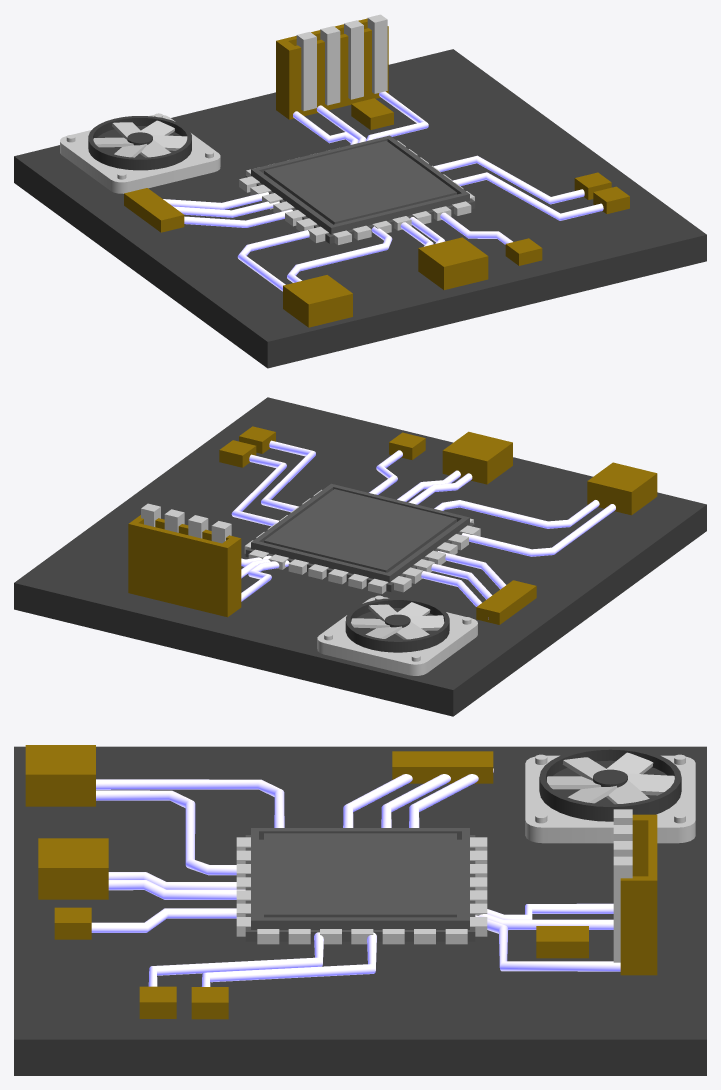
File: moederbord II.fbx
3 views of the same model, one above another, from view 1: azimuth 30°, elevation 25°; view 2: azimuth 150°, elevation 25°; view 3: azimuth 270°, elevation 25° (orthographic). The views are drawn at different scales.
Visible parts, largest first — view 1: Plane.035; view 2: Plane.035; view 3: Plane.035.
Part boxes in pixels (x1=…): Plane.035: x1=14, y1=14, x2=706, y2=368; Plane.035: x1=14, y1=397, x2=706, y2=716; Plane.035: x1=14, y1=745, x2=706, y2=1075.
Bounding box in the file's own units: 152 × 34.77 × 152.
